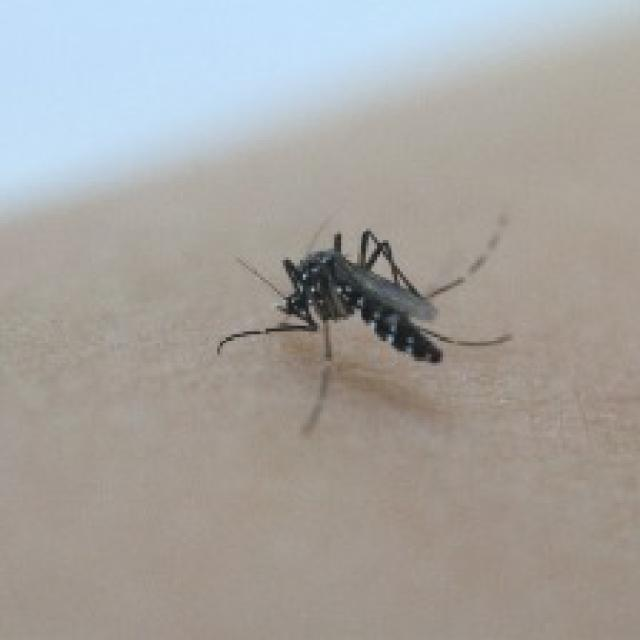aedes: (212, 206, 514, 434)
